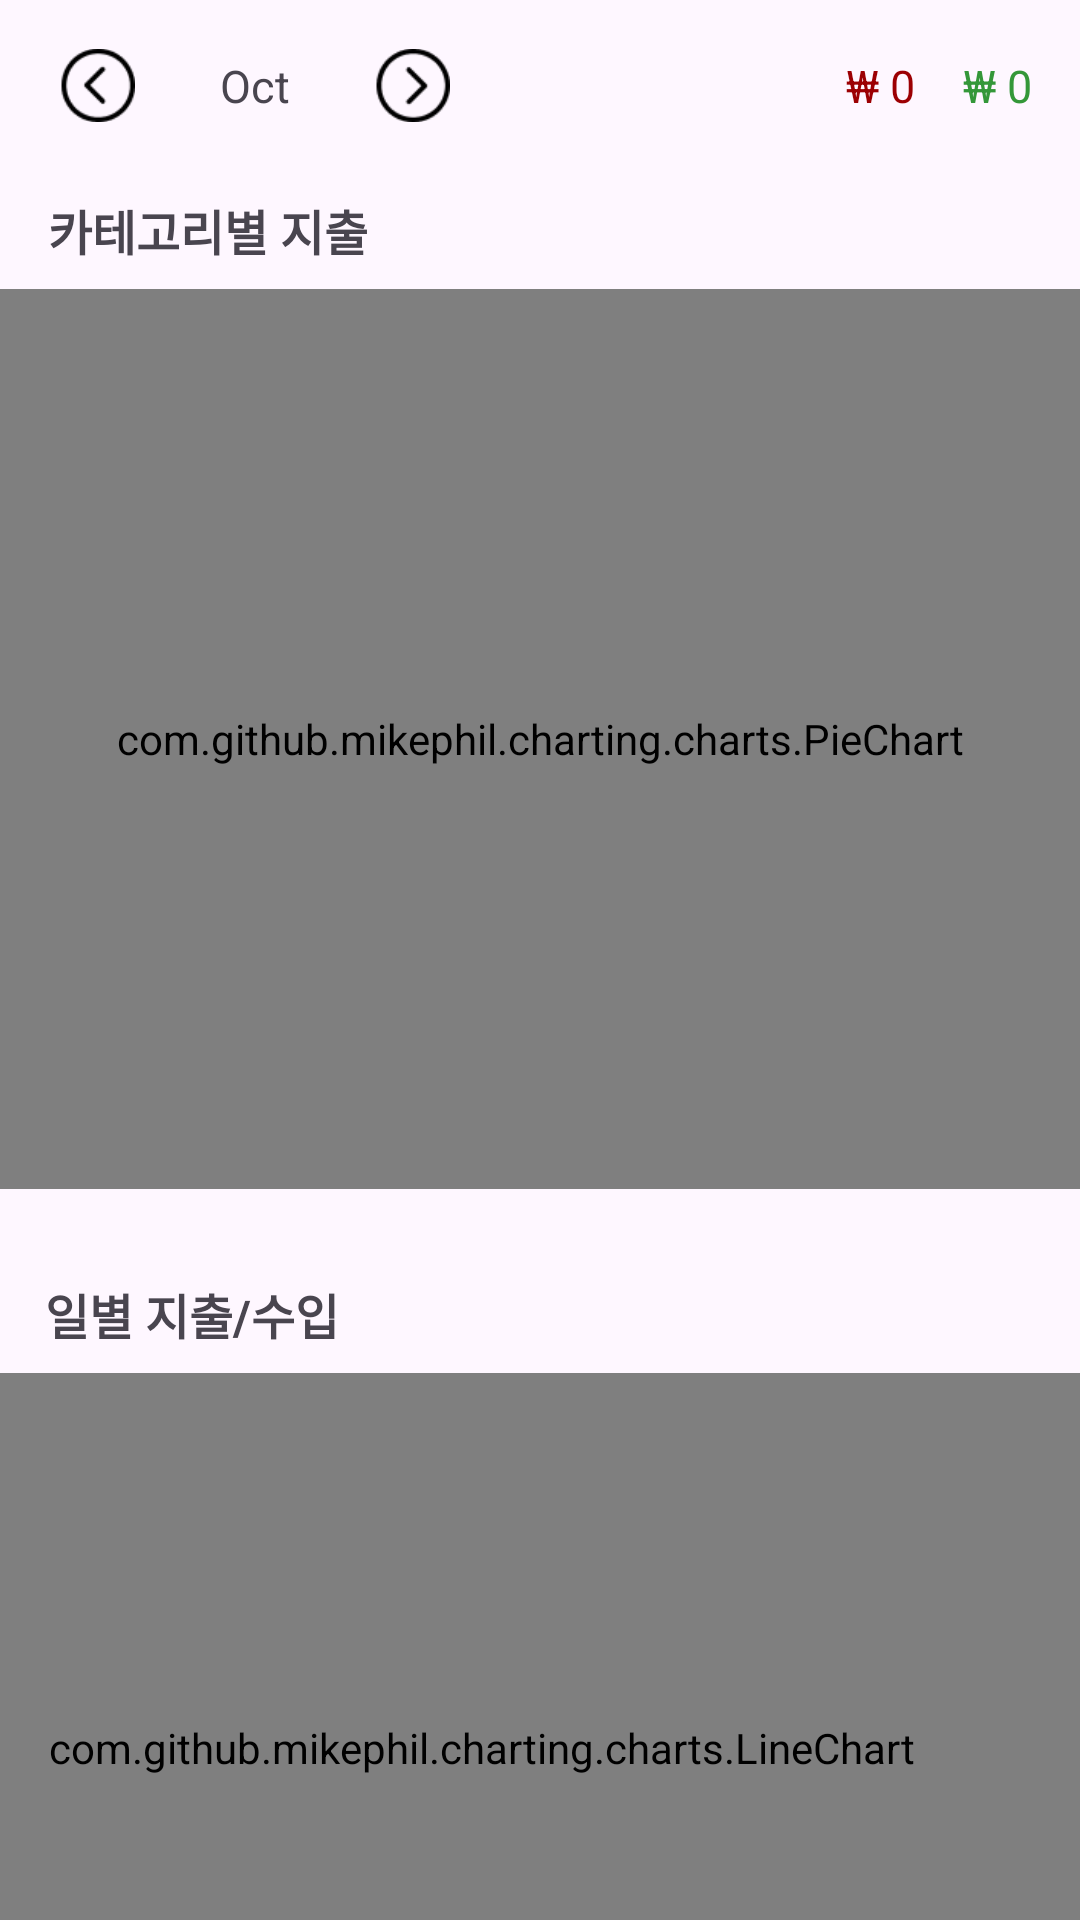

Named icons in this screenshot (1080px x 1920px) and their centers, [x,y]:
arrow left: [98,85]
arrow right: [413,85]
